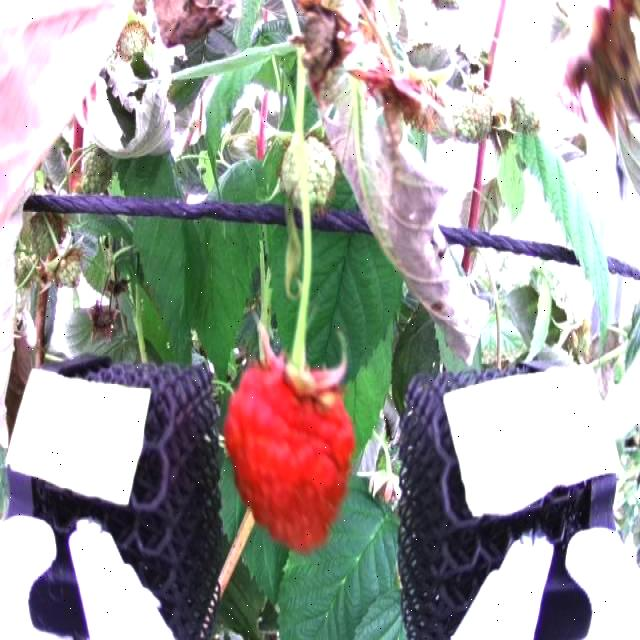Riped berries: (221, 348, 358, 553)
